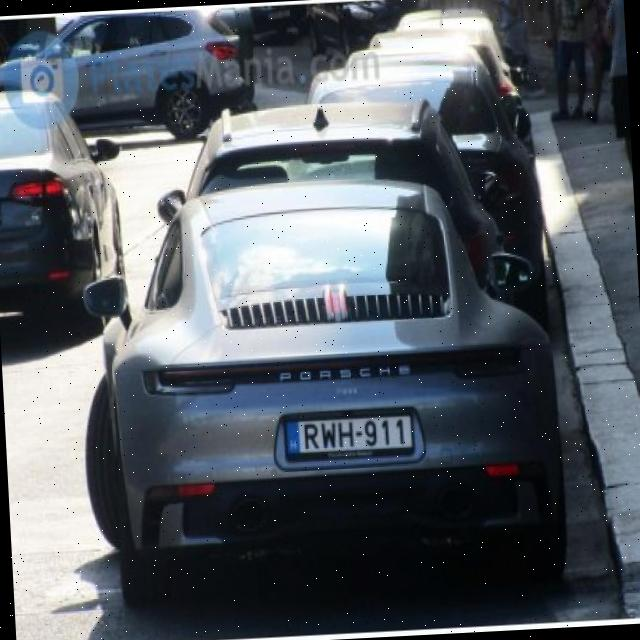licence: (283, 409, 415, 463)
